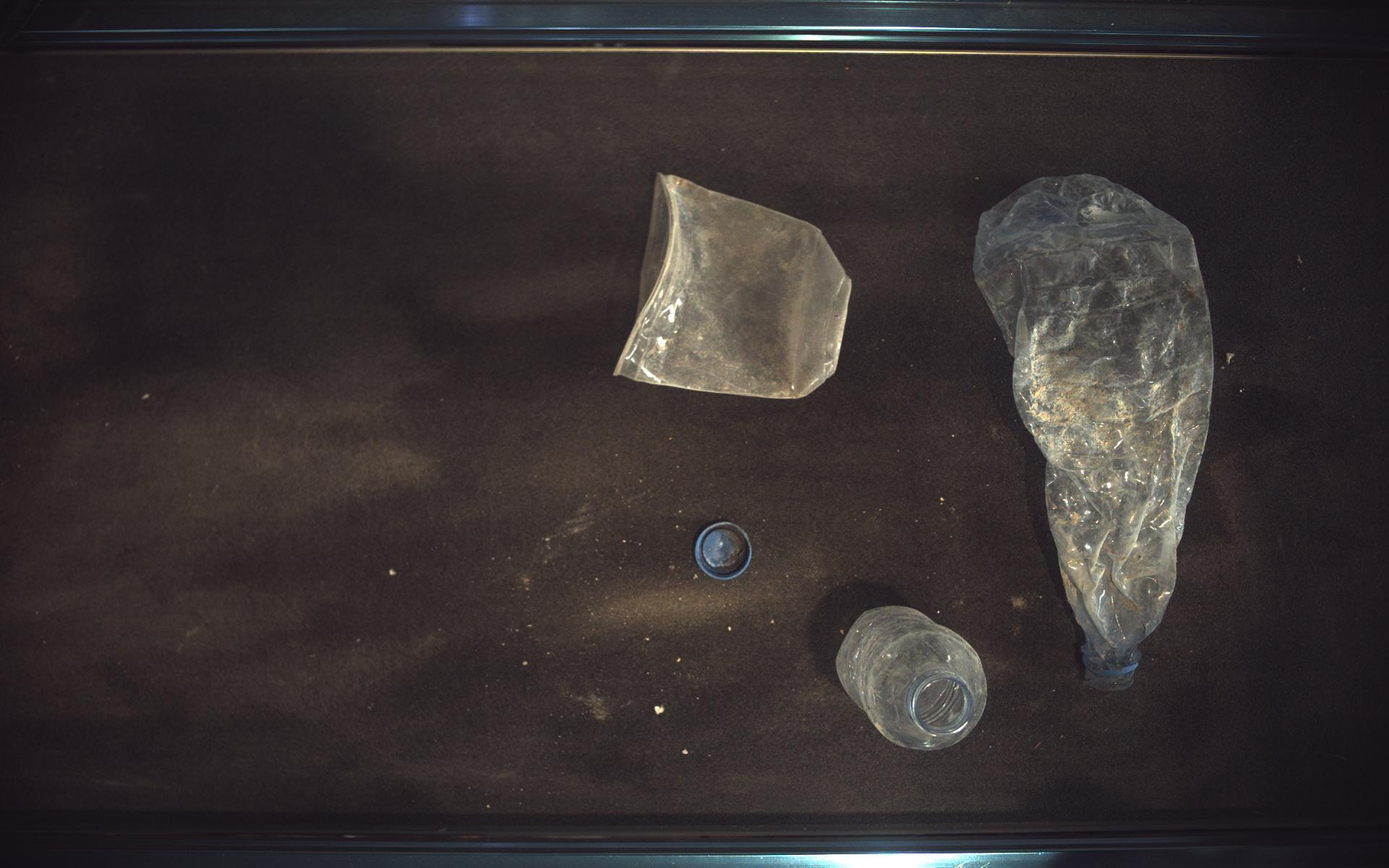general_w: (976, 174, 1216, 691), (616, 172, 853, 399), (838, 606, 989, 752), (695, 522, 754, 582)
